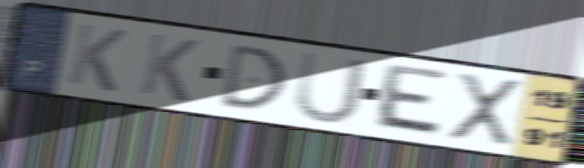D: (217, 42, 289, 112)
E: (369, 61, 451, 141)
K: (63, 20, 130, 96), (136, 30, 203, 105)
U: (291, 48, 370, 127)
X: (447, 70, 525, 149)
